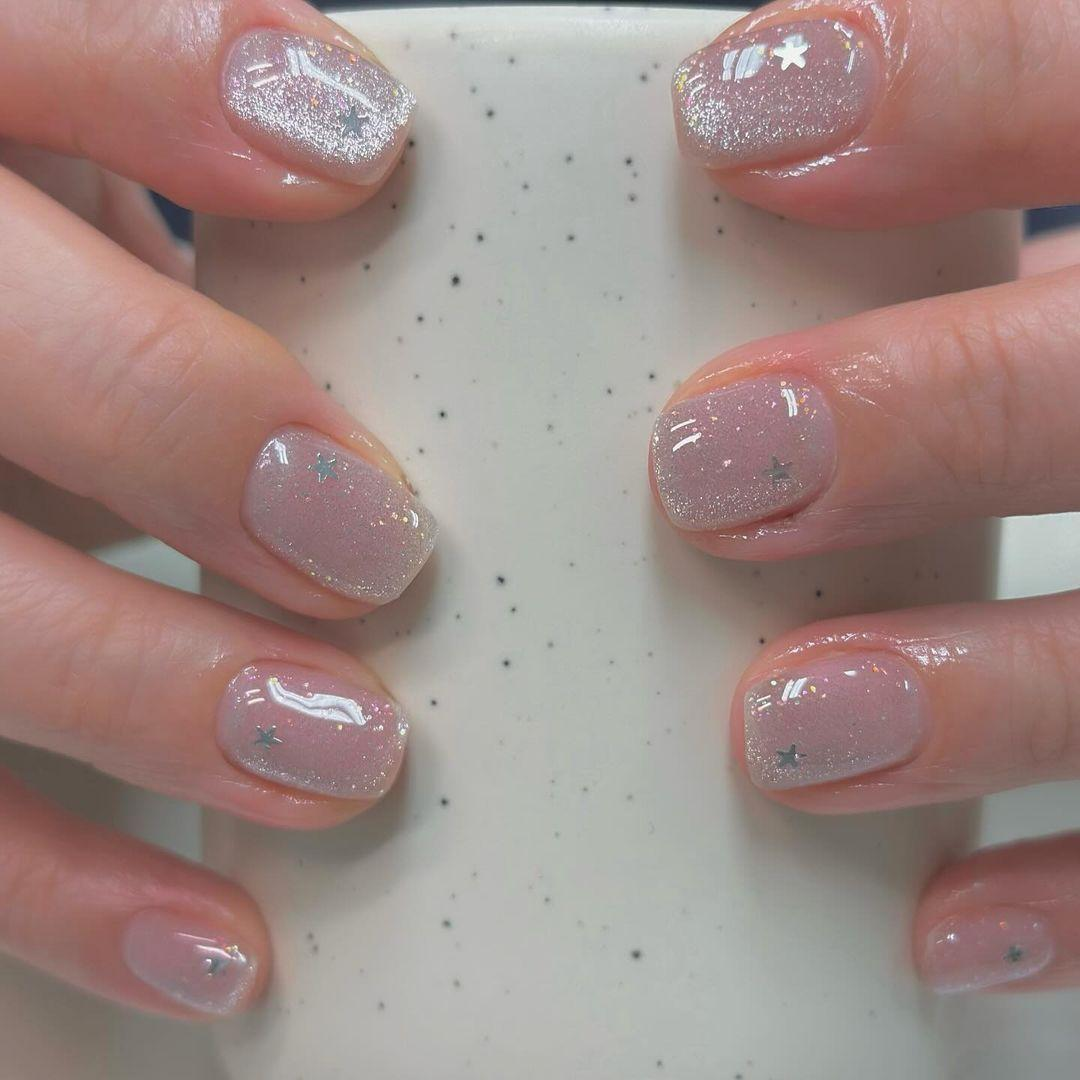nail: (729, 586, 1078, 816), (670, 0, 895, 173), (238, 420, 438, 607), (216, 24, 414, 189), (647, 370, 839, 534), (738, 643, 930, 793), (213, 656, 409, 802), (910, 828, 1078, 996), (119, 900, 267, 1016)
